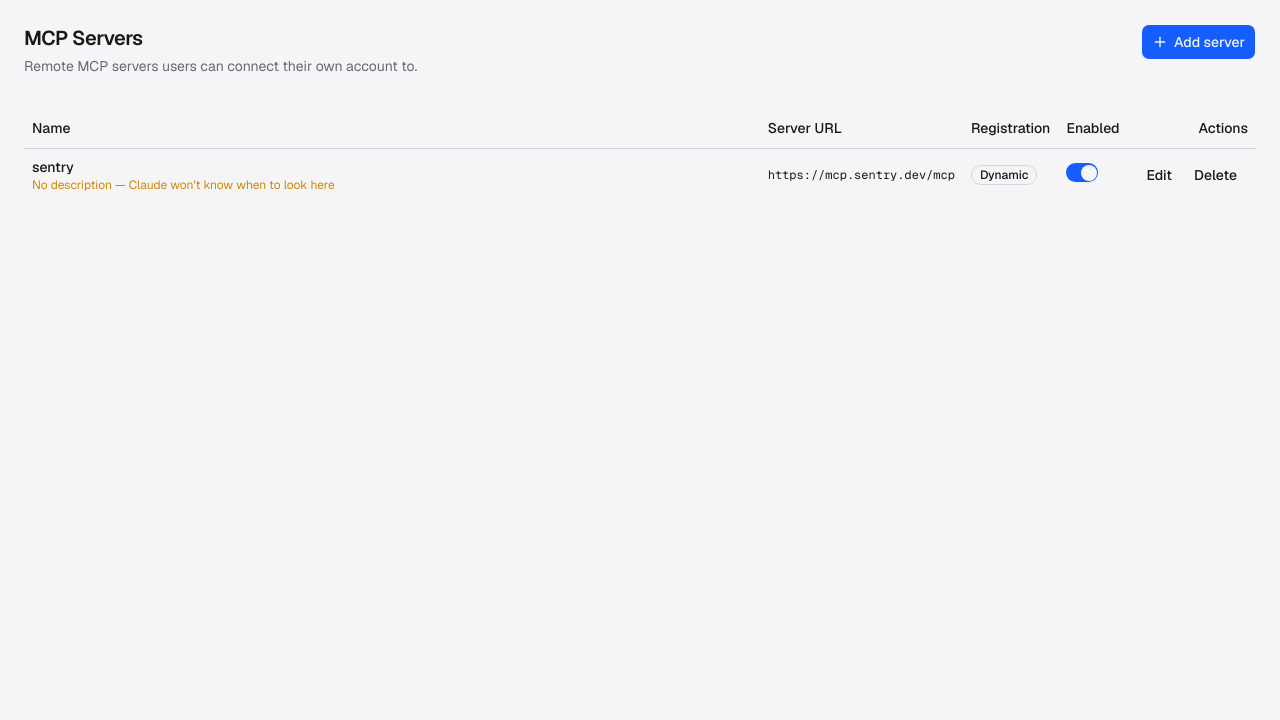
Test case: AdminMcpServers › cancelling the confirmation deletes nothing
Click the button with aria-label "Delete sentry" at (1215, 174), box [1183,158,1248,190]
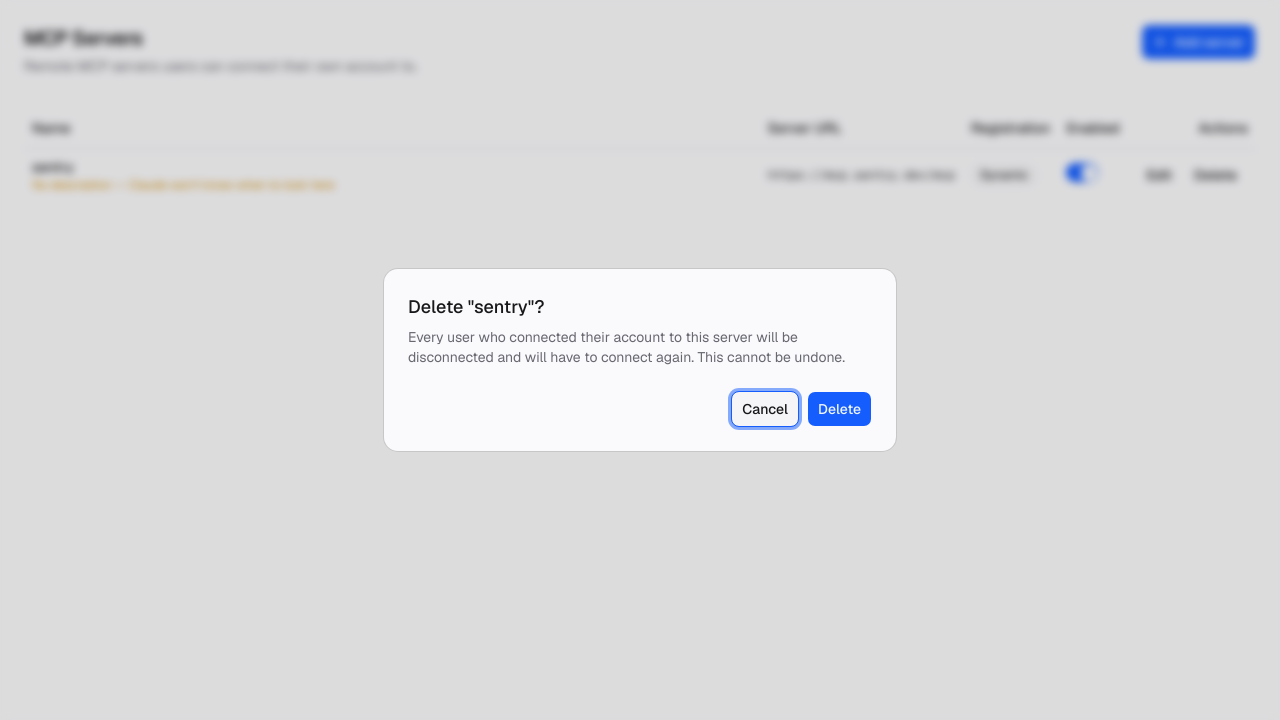
Click the button "Cancel" at (765, 409), box [731,391,799,427]
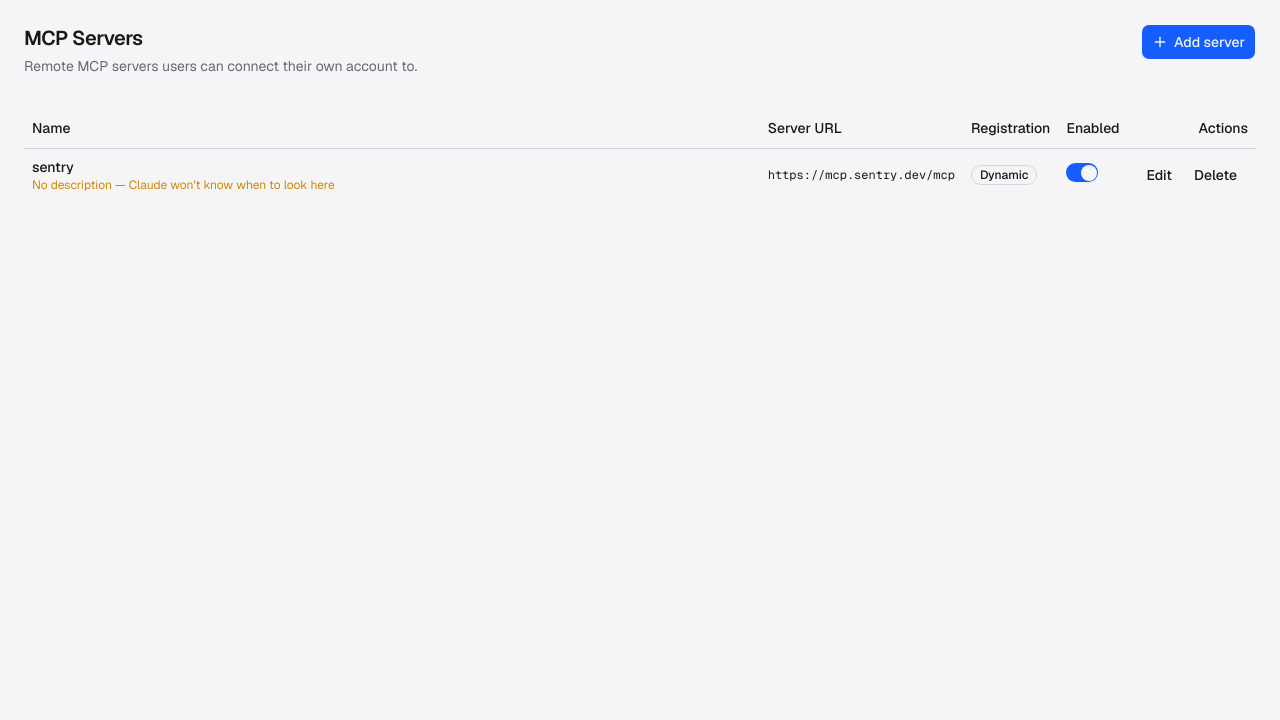
expect the text "sentry" is shown: met, box [32,158,74,176]
expect the dialog is gone: met
